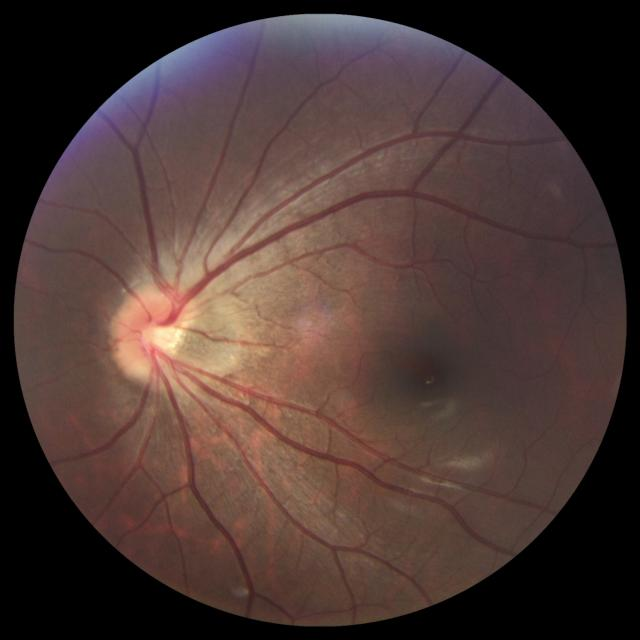OC: (141, 322, 179, 354)
OD: (110, 283, 186, 380)
